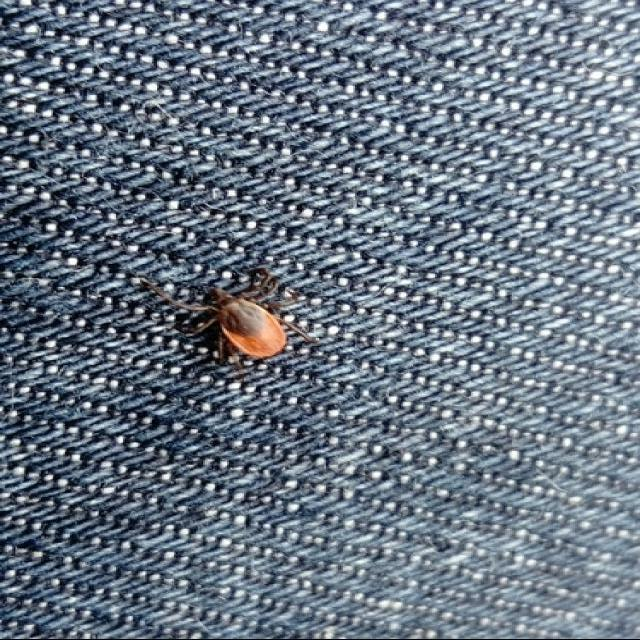Ixodes Ricinus-F: (135, 269, 316, 370)
